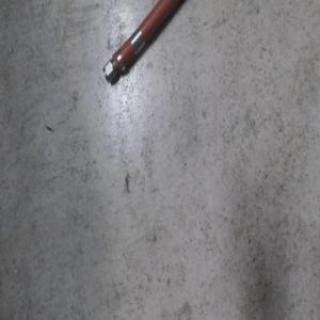Hosetrack_idkeyframe: (102, 0, 185, 85)
